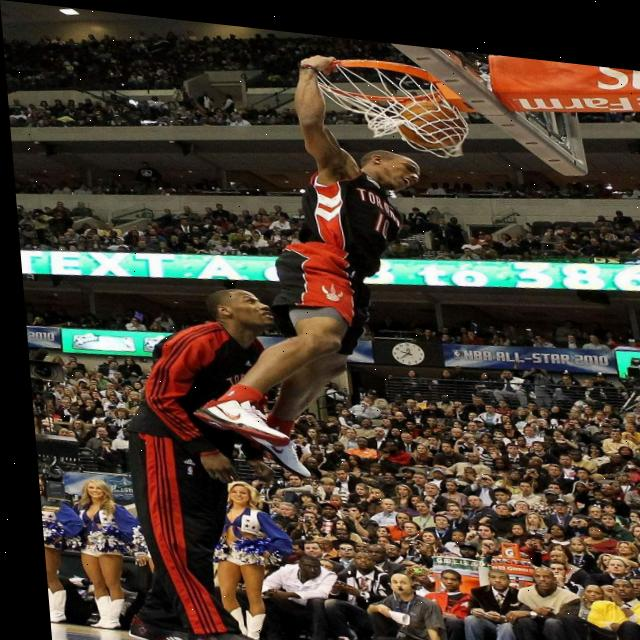basketball: (394, 96, 470, 154)
hoop: (307, 52, 476, 164), (309, 52, 476, 165)
